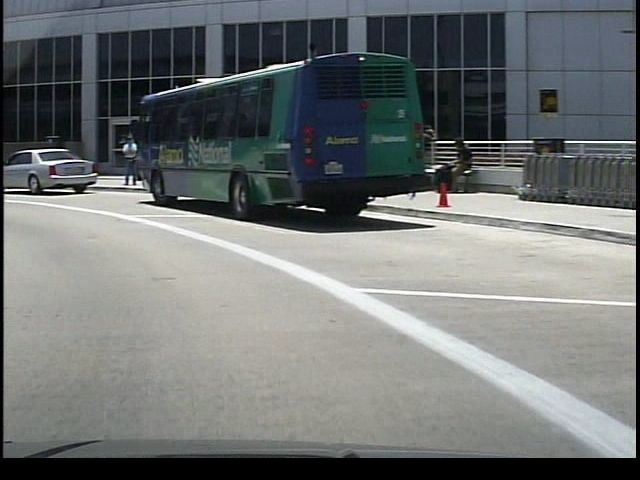person: (432, 132, 470, 197), (115, 134, 137, 187)
